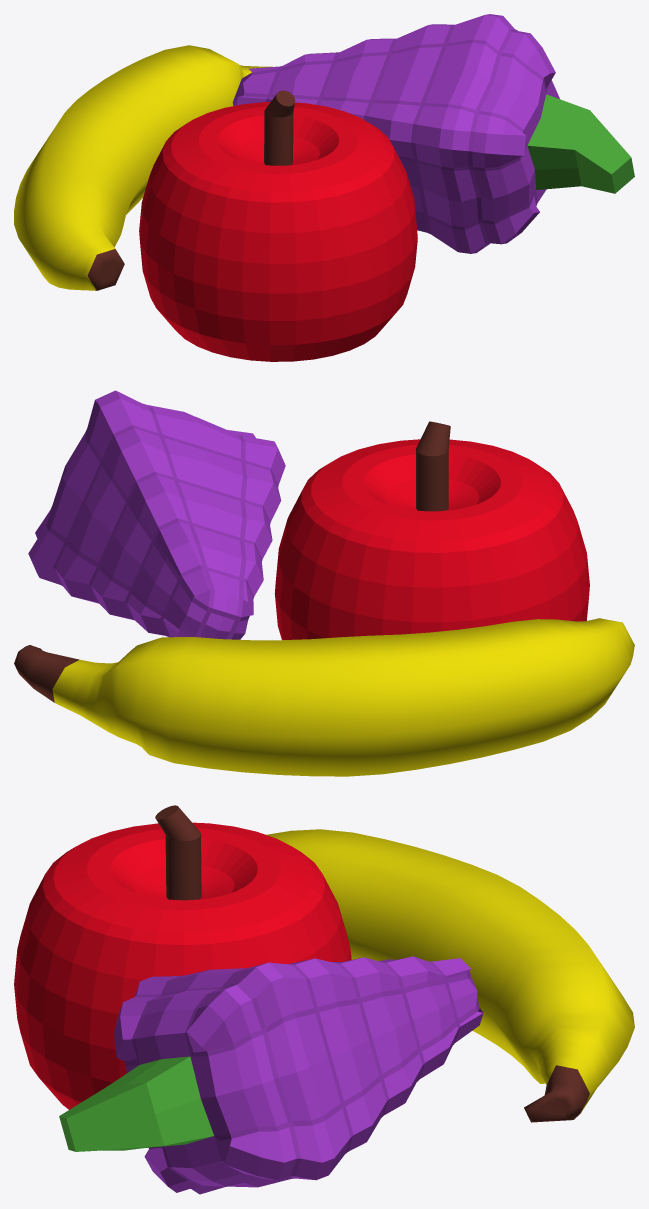
The model's file is Fruit.fbx.
The picture shows the model from 3 angles, top to bottom: view 1: azimuth 30°, elevation 25°; view 2: azimuth 150°, elevation 25°; view 3: azimuth 270°, elevation 25°; orthographic projection. The views are drawn at different scales.
Parts seen in each view (by area): view 1: Sphere, Cube, BézierCurve; view 2: BézierCurve, Sphere, Cube; view 3: Cube, Sphere, BézierCurve.
Part boxes in pixels (bbox=[...]): Sphere: bbox=[139, 90, 417, 361]; Cube: bbox=[232, 14, 634, 253]; BézierCurve: bbox=[14, 45, 272, 290]; BézierCurve: bbox=[14, 618, 634, 776]; Sphere: bbox=[274, 421, 589, 639]; Cube: bbox=[28, 390, 285, 639]; Cube: bbox=[59, 956, 483, 1194]; Sphere: bbox=[14, 805, 351, 1109]; BézierCurve: bbox=[266, 829, 634, 1122].
Size of the model in its own units: 223 by 97.45 by 191.
